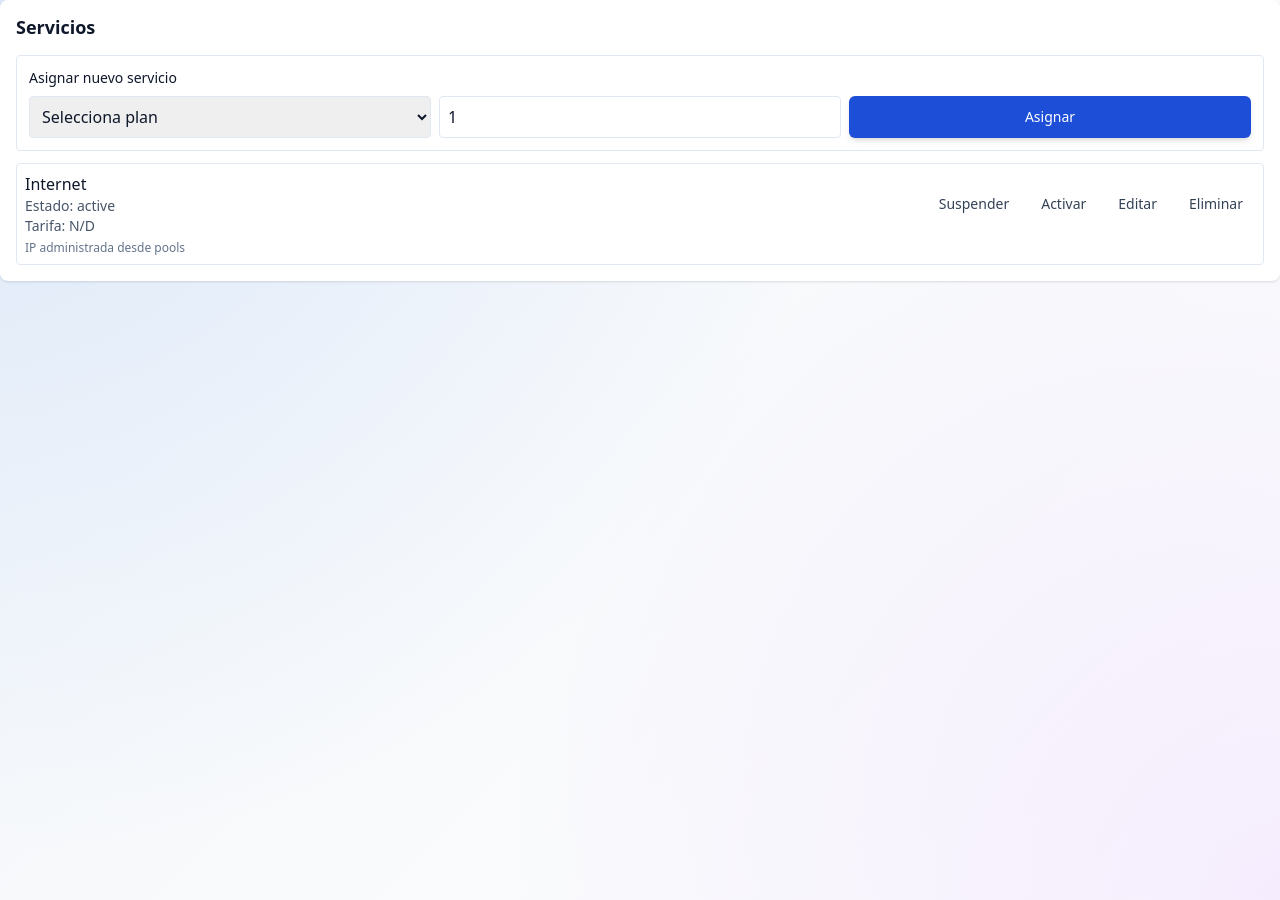
Test case: ServicesAssignments › muestra errores cuando faltan campos obligatorios por plan
The image size is (1280, 900).
Select "Streaming" in the dropdown with test id "assignment-plan" at (230, 116), box x1=29 y1=96 x2=431 y2=138
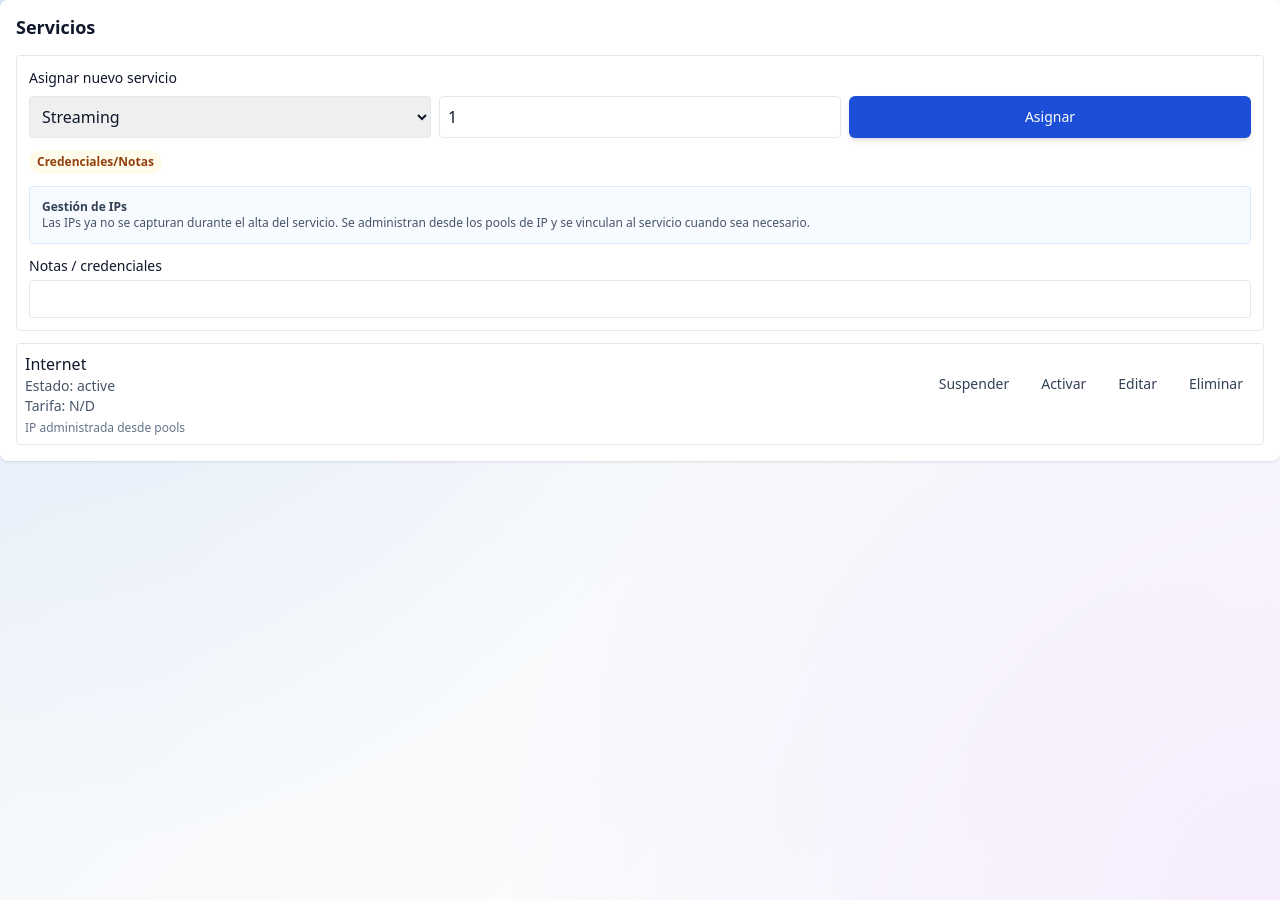
Click the button with test id "assign-service" at (1050, 116), box x1=849 y1=96 x2=1251 y2=138
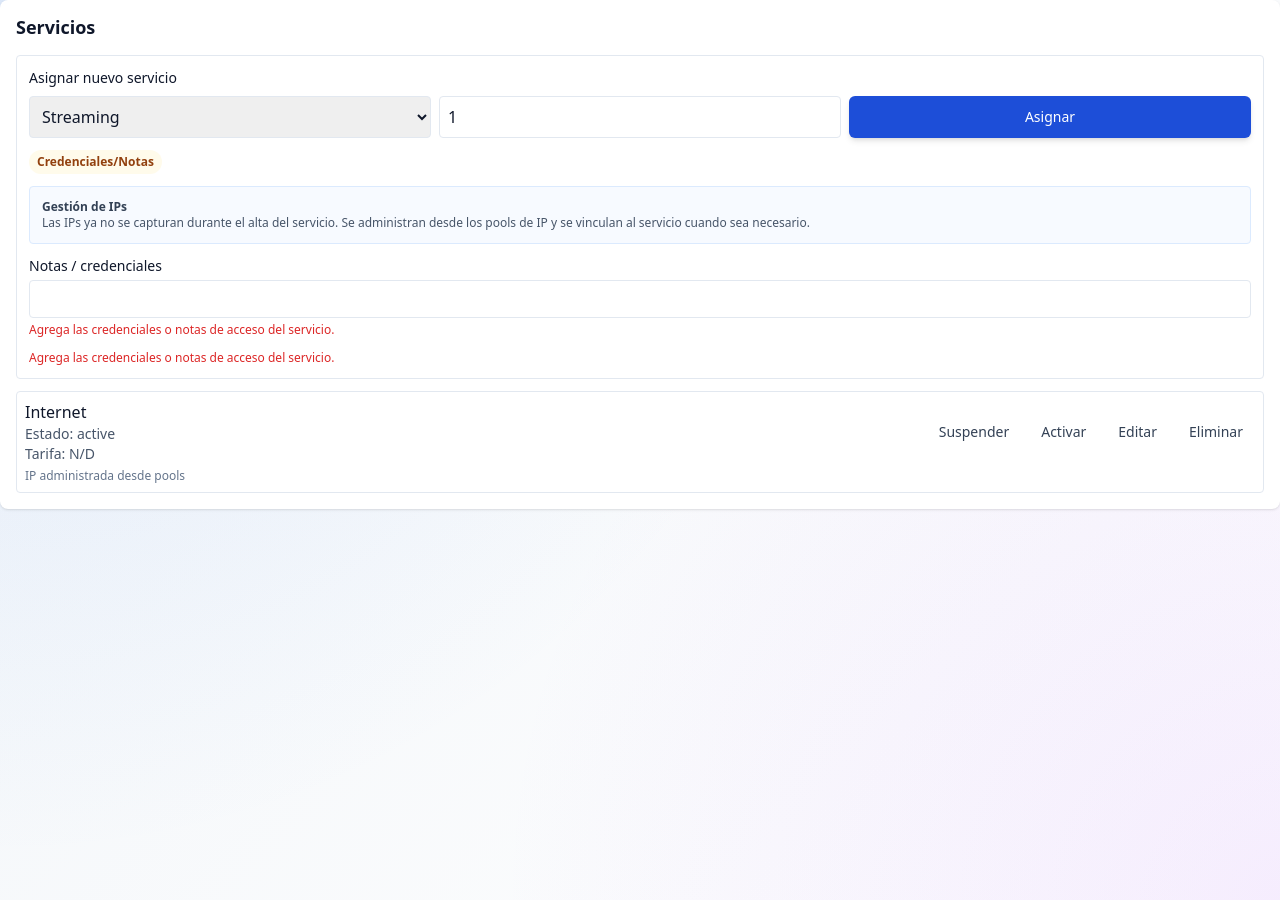
Expected: the text with test id "assignment-notes-error" is shown, x1=29 y1=320 x2=334 y2=338
